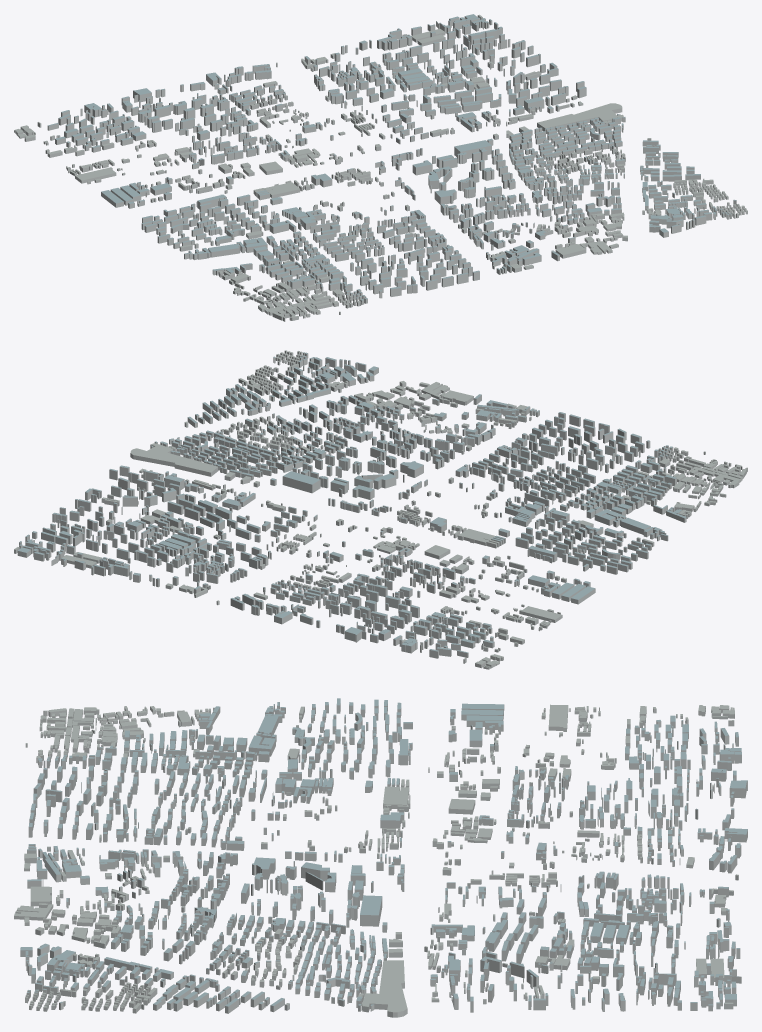
File: far.glb
3 renders of one model, top to bottom at view 1: azimuth 30°, elevation 25°; view 2: azimuth 150°, elevation 25°; view 3: azimuth 270°, elevation 25°, orthographic. The views are drawn at different scales.
Bounding box in the file's own units: 2160 × 42.62 × 2154.
